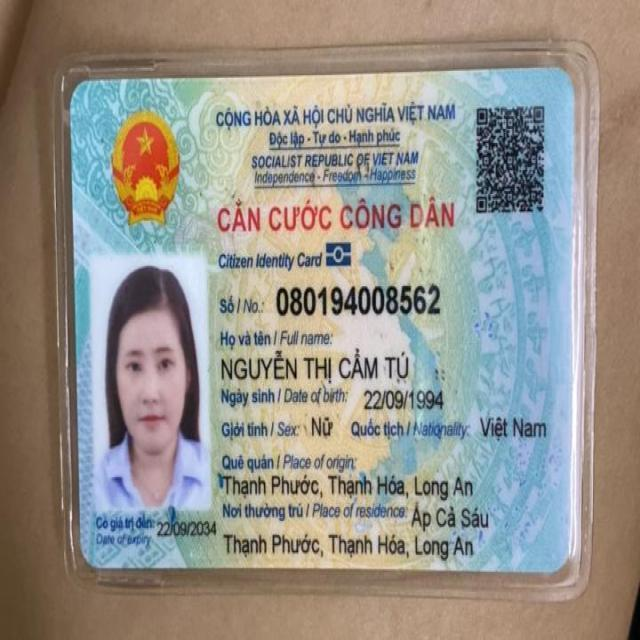bottom_left: (64, 528, 112, 581)
bottom_right: (541, 536, 586, 588)
image_person: (86, 248, 222, 508)
top_left: (56, 65, 100, 124)
top_right: (538, 54, 584, 96)
